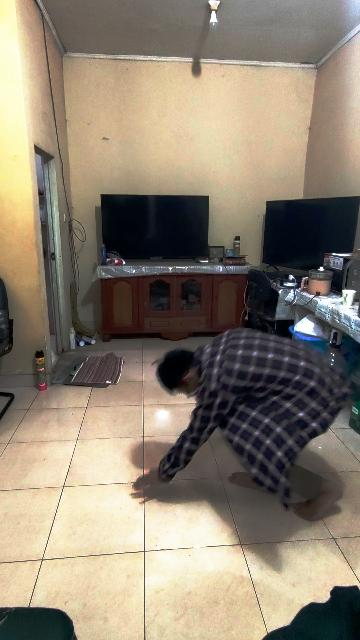jatuh: (138, 334, 349, 528)
